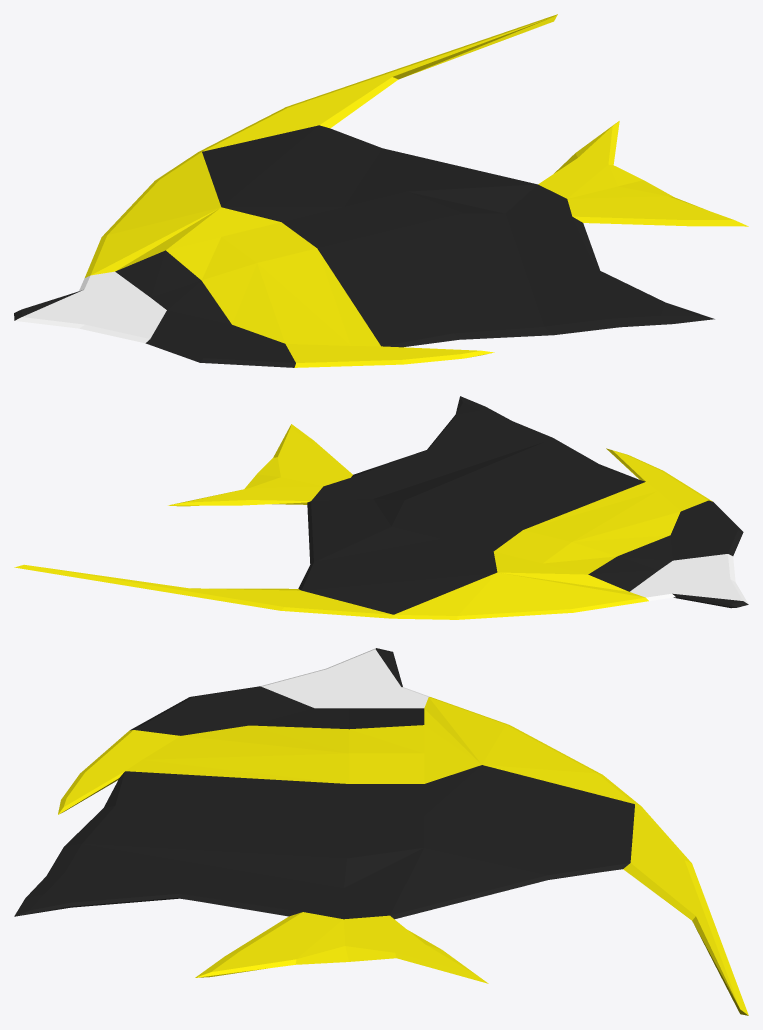
File: fish_black_yellow.obj
3 views of the same model, one above another, from view 1: azimuth 30°, elevation 25°; view 2: azimuth 150°, elevation 25°; view 3: azimuth 270°, elevation 25° (orthographic). The views are drawn at different scales.
Visible parts, largest first — view 1: Plane; view 2: Plane; view 3: Plane.
Boxes of the visible parts, x1,y1,x2,y2 form: Plane: (14,14,748,367); Plane: (14,396,748,619); Plane: (14,648,748,1015).
Size of the model in its own units: 22.79 by 0.8253 by 19.24.
